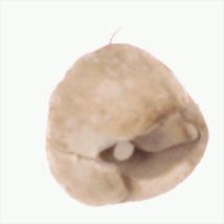L3: (101, 109, 196, 172)
L4: (44, 43, 210, 207)
